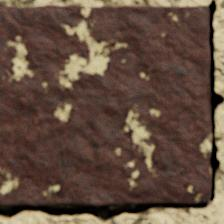brick: (0, 5, 211, 205)
crack: (0, 0, 223, 223)
